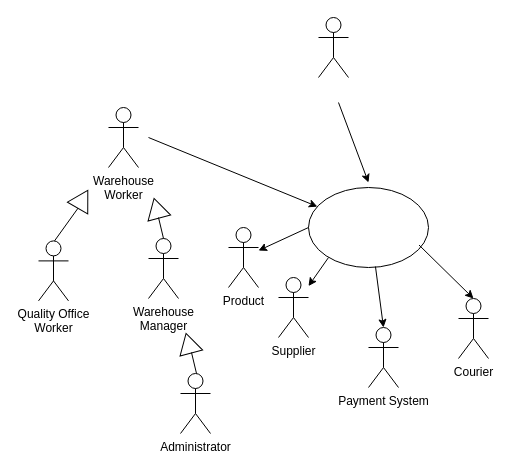
Some shapes in this 510 by 472 pixel diagram are drawn without their labels. Each missing label, with the centre of its shape:
EZWH: [368,227]
OU Worker: [333,47]
